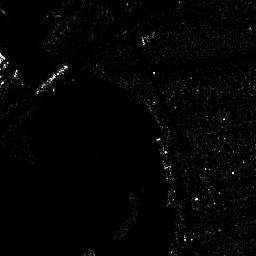ship: (36, 63, 71, 94)
